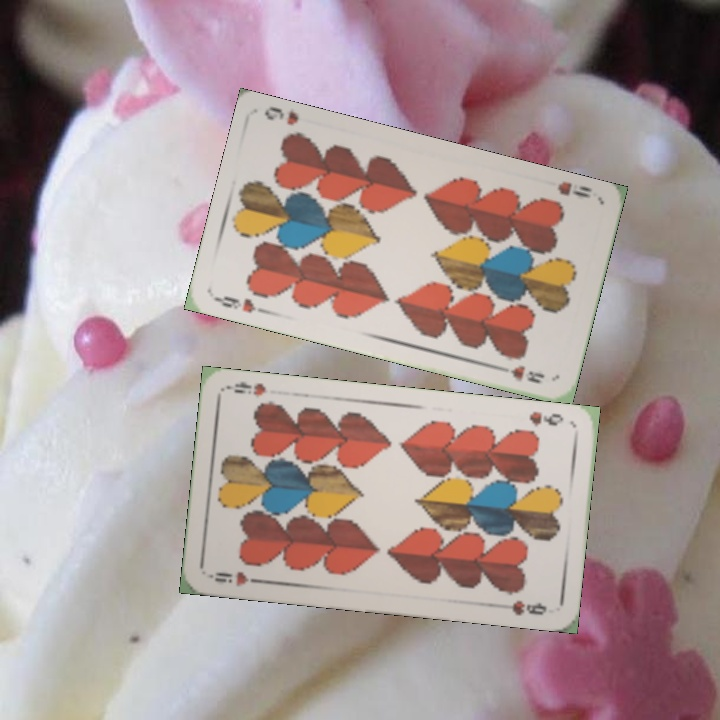H9: (211, 292, 270, 316), (206, 567, 265, 589), (554, 177, 595, 201), (525, 407, 566, 429)
